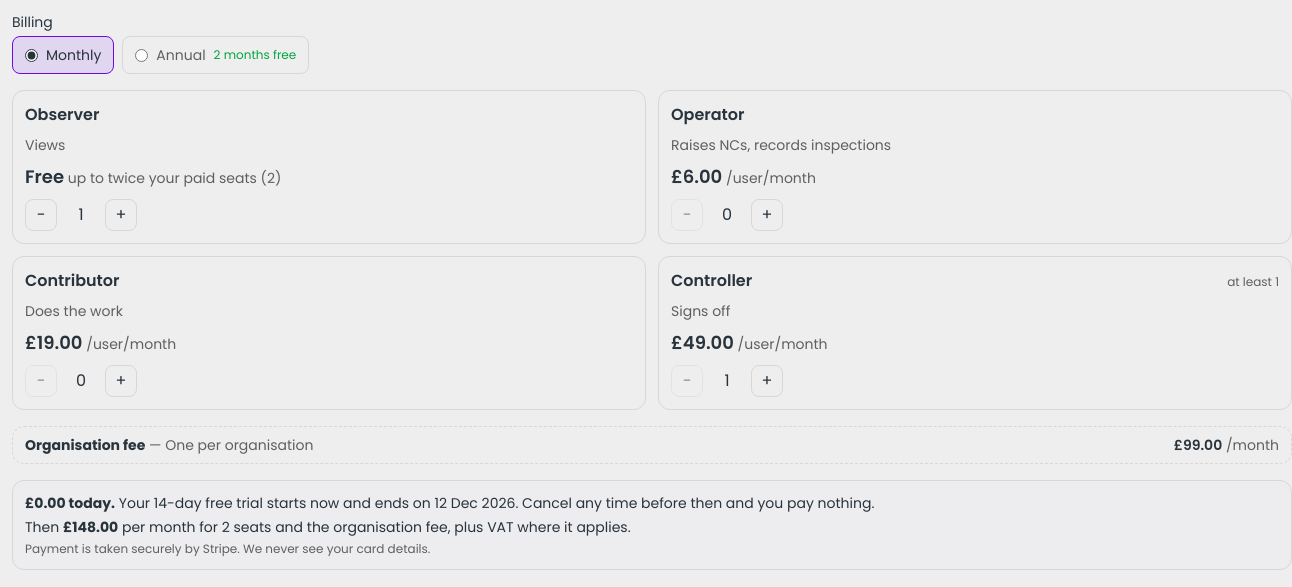
Test case: SeatPicker › gives Observers free up to twice the paid seats and stops there
Expected: the element named "Observer package" shows "Free up to twice your paid seats (2)", [12, 90, 646, 244]
Click the button named "Add Observer seat" at (121, 215), box [105, 199, 137, 231]
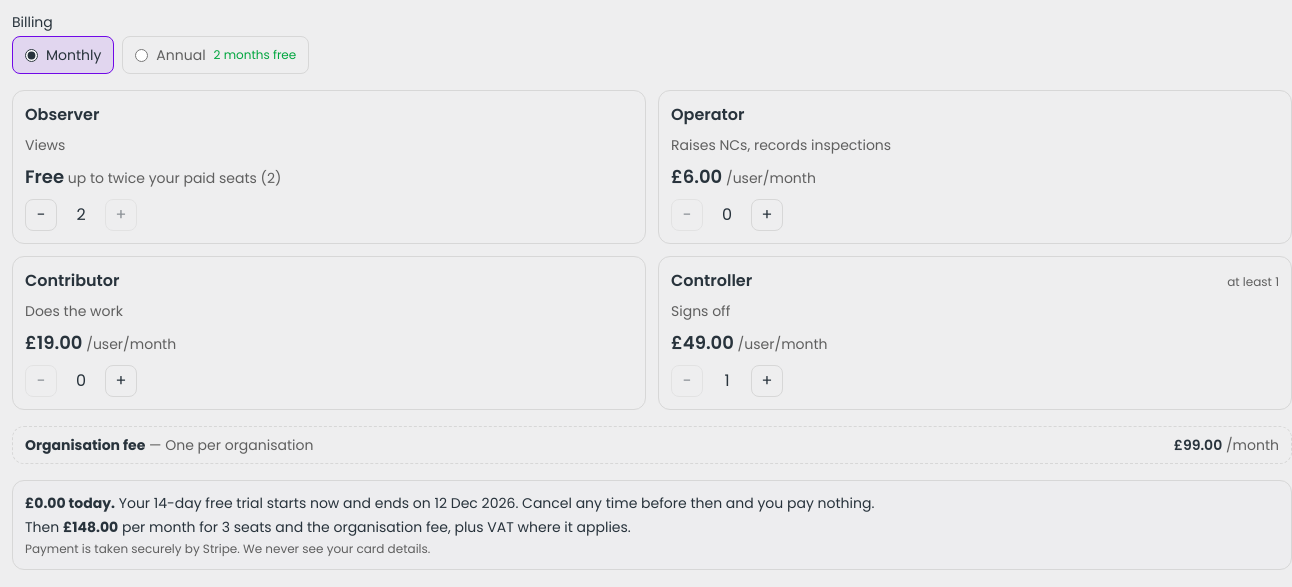
// another paid seat raises the limit
Click the button named "Add Operator seat" at (767, 215), box [751, 199, 783, 231]
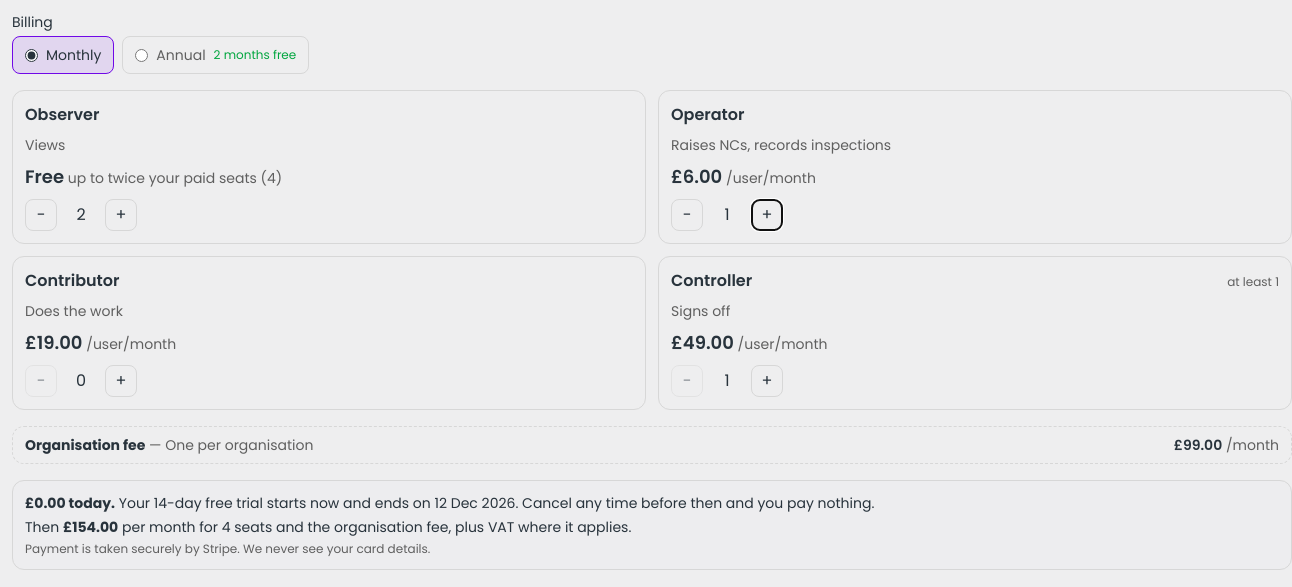
Expected: the button named "Add Observer seat" is enabled, [105, 199, 137, 231]
Result: the element named "Observer package" shows "(4)" at [12, 90, 646, 244]
